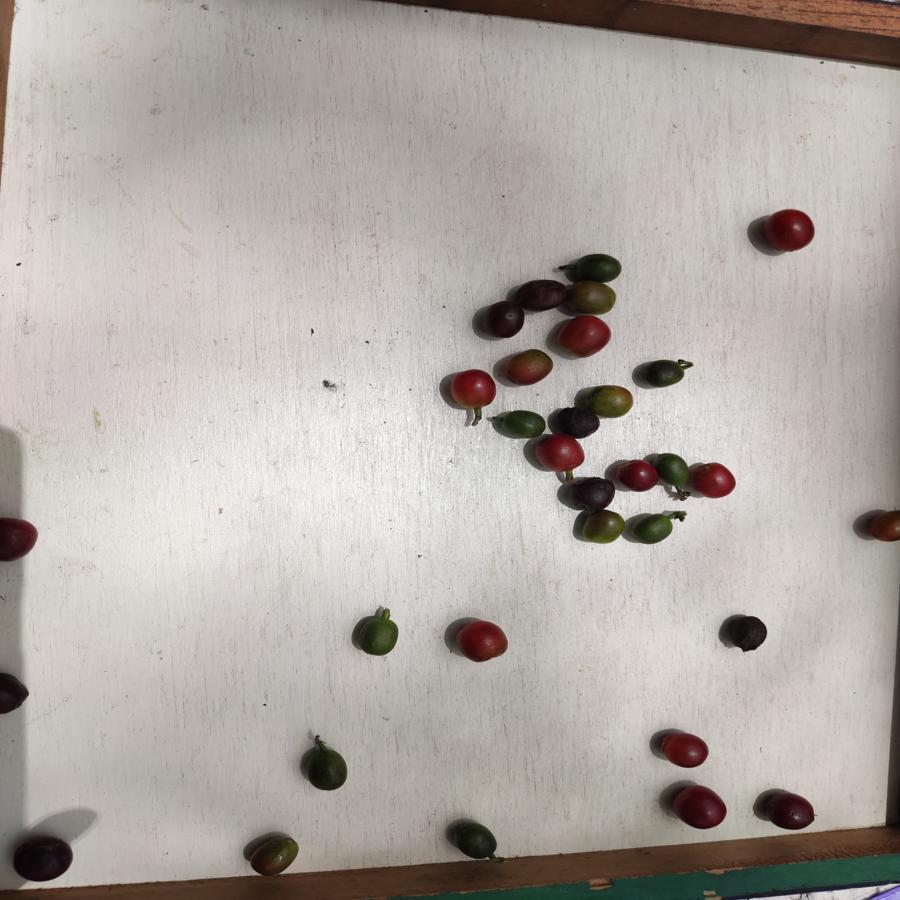Inmaduro: (452, 821, 502, 860), (305, 748, 349, 791), (355, 616, 399, 655), (571, 252, 624, 283), (655, 453, 691, 491), (631, 513, 675, 544), (644, 358, 687, 389), (502, 409, 546, 437)
Maduro: (451, 620, 509, 664), (758, 208, 815, 252), (558, 316, 609, 357), (656, 733, 711, 770), (450, 366, 496, 410), (534, 435, 586, 471), (692, 462, 736, 501), (617, 456, 657, 491)
Pinton: (245, 836, 301, 875), (564, 281, 617, 315), (504, 349, 553, 385), (579, 511, 626, 544), (589, 383, 634, 416), (864, 510, 900, 546)
Sobremaduro: (13, 836, 72, 880), (671, 786, 729, 830), (1, 512, 38, 567), (765, 792, 815, 830), (726, 616, 771, 653), (517, 277, 564, 311), (480, 299, 522, 337), (572, 478, 614, 513), (1, 671, 28, 716), (559, 408, 597, 436)
